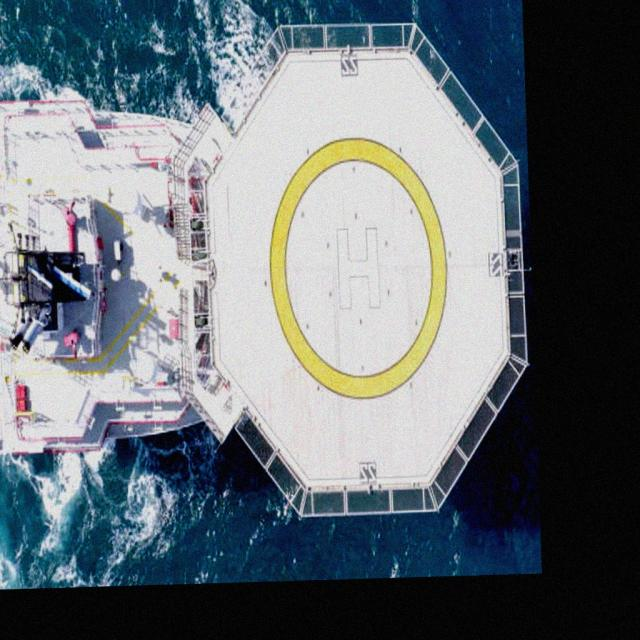helipad: (264, 129, 451, 405)
